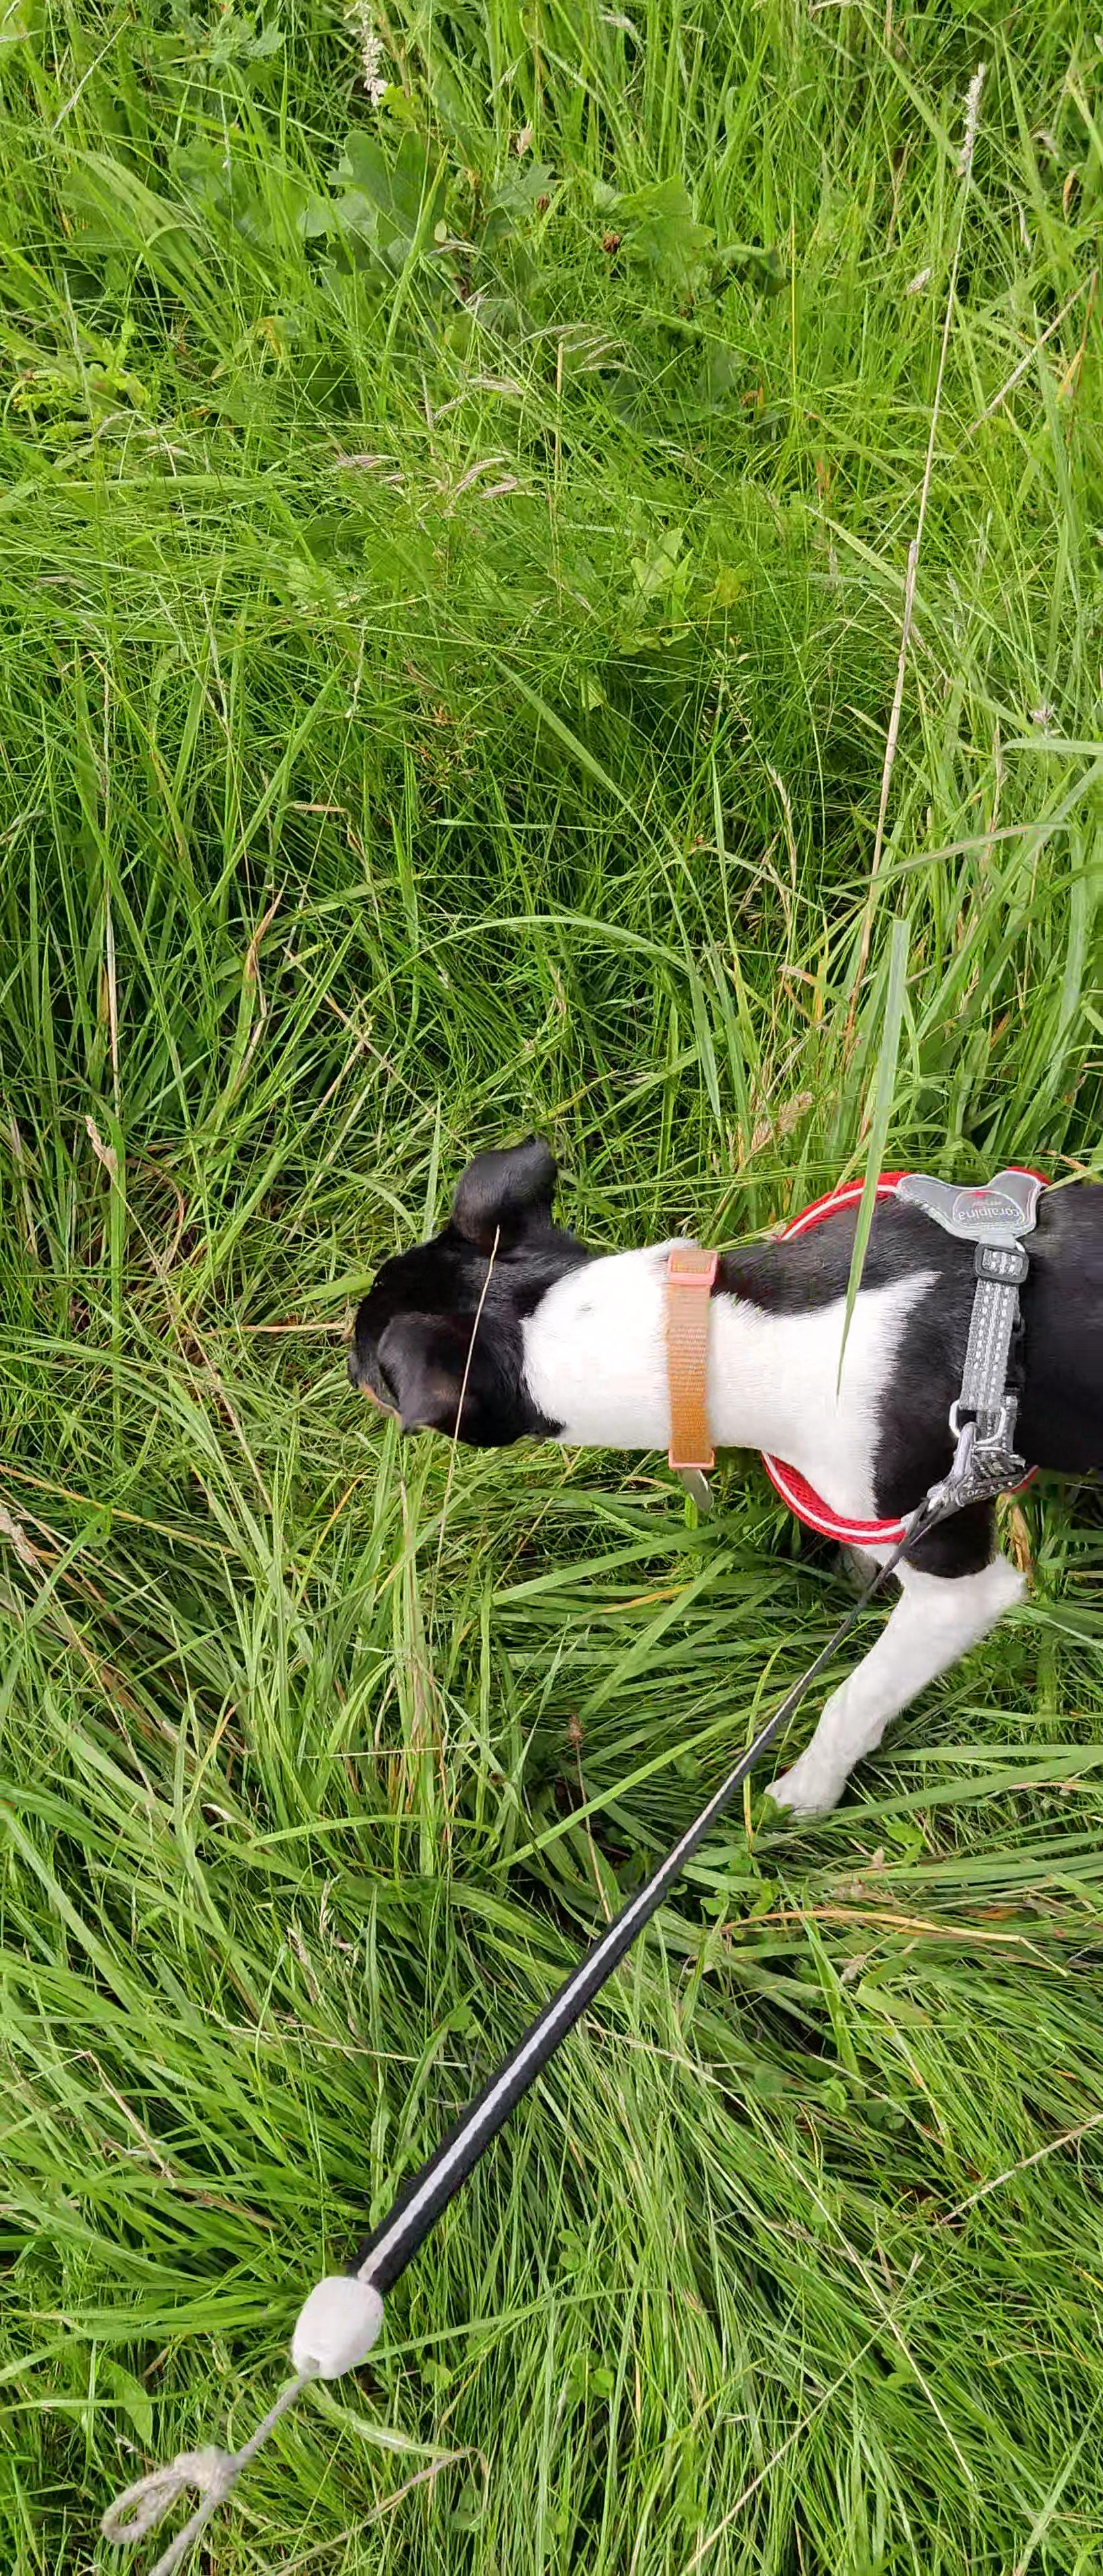Dog: (322, 1096, 1103, 1860)
